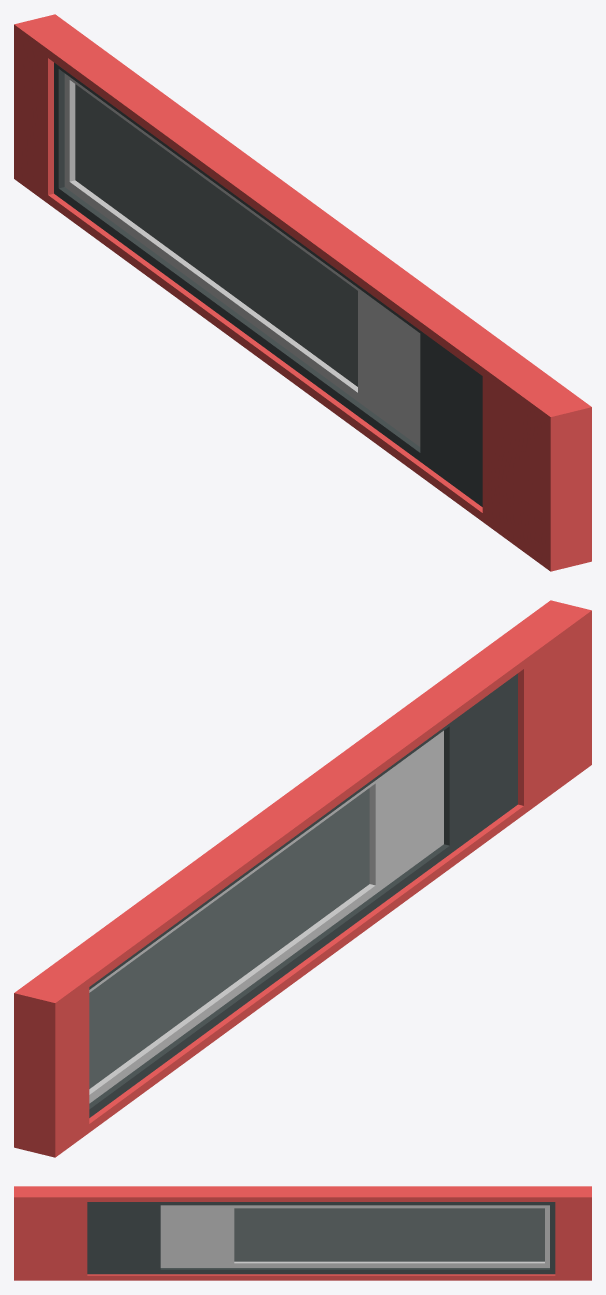
Rendered from attack.glb.
3 views of the same model, one above another, from view 1: azimuth 30°, elevation 25°; view 2: azimuth 150°, elevation 25°; view 3: azimuth 270°, elevation 25° (orthographic). The views are drawn at different scales.
Parts seen in each view (by area): view 1: inner message, teamColor; view 2: inner message, teamColor; view 3: inner message, teamColor.
Boxes of the visible parts, x1,y1,x2,y2 form: inner message: [54, 62, 482, 506]; teamColor: [14, 14, 591, 571]; inner message: [89, 673, 517, 1117]; teamColor: [14, 600, 591, 1157]; inner message: [87, 1202, 555, 1274]; teamColor: [14, 1186, 591, 1280].
Size of the model in its own units: 0.7 by 2.5 by 15.74.
Materials: 2 (1 with a texture image).
